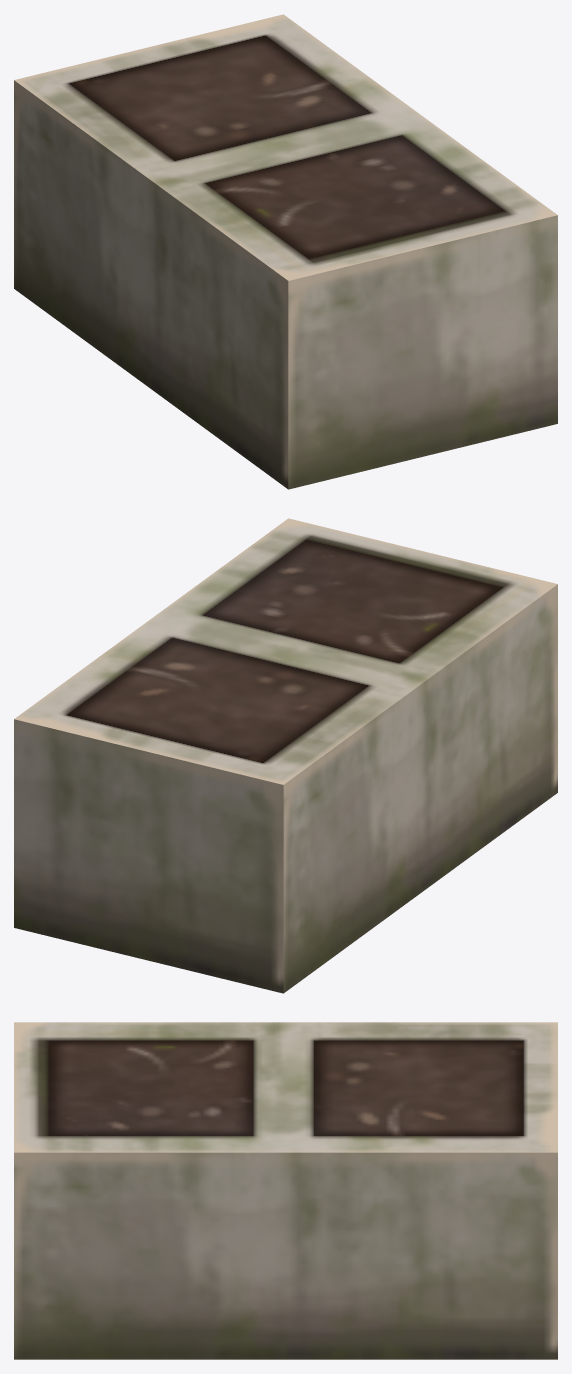
The model's file is raisedBed_dressing_brick.fbx.
3 renders of one model, top to bottom at view 1: azimuth 30°, elevation 25°; view 2: azimuth 150°, elevation 25°; view 3: azimuth 270°, elevation 25°, orthographic.
Visible parts, largest first — view 1: raisedBed_dressing_brick; view 2: raisedBed_dressing_brick; view 3: raisedBed_dressing_brick.
Boxes of the visible parts, left/top/right/bottom form: raisedBed_dressing_brick: left=14, top=14, right=557, bottom=489; raisedBed_dressing_brick: left=14, top=518, right=557, bottom=993; raisedBed_dressing_brick: left=14, top=1022, right=557, bottom=1359.
Bounding box in the file's own units: 24.69 × 18.26 × 43.54.
